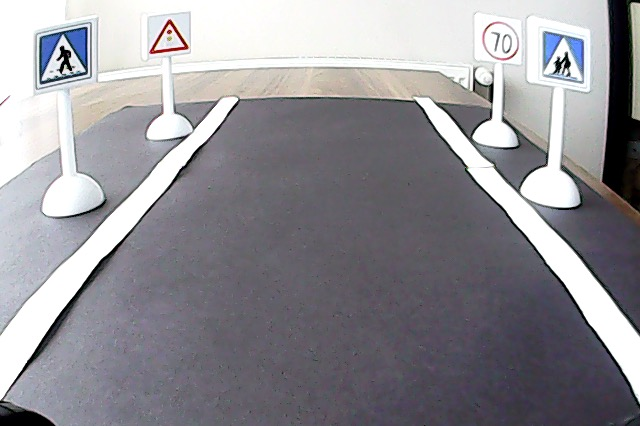pedestrian crossing: (34, 23, 95, 91)
red light: (148, 13, 192, 58)
school crossing: (539, 25, 588, 88)
speed limit 70: (479, 17, 522, 64)
